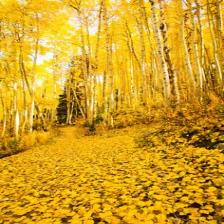yellow: (0, 0, 224, 138), (1, 124, 224, 224)
